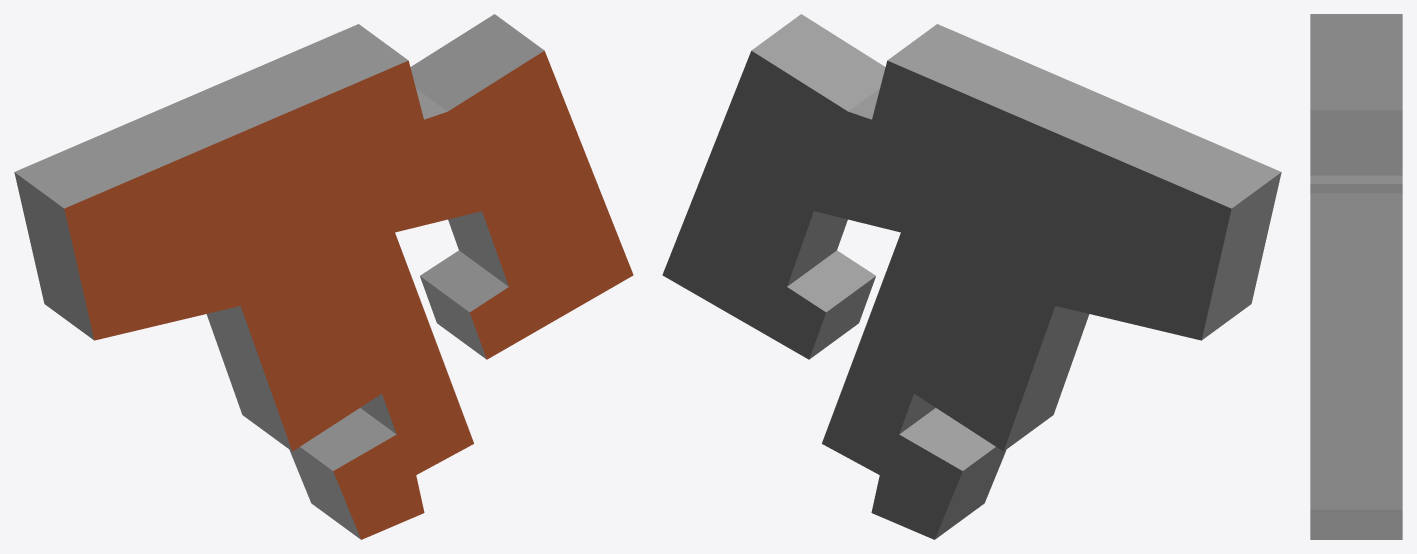
Rendered from construction_1230_assumed_A_Casa_h6m.obj.
3 views of the same model, side by side, from view 1: azimuth 30°, elevation 25°; view 2: azimuth 150°, elevation 25°; view 3: azimuth 270°, elevation 25° (orthographic). The views are drawn at different scales.
Parts seen in each view (by area): view 1: construction_1230_assumed_A_Casa; view 2: construction_1230_assumed_A_Casa; view 3: construction_1230_assumed_A_Casa.
Part boxes in pixels (x1,y1,x2,y2): construction_1230_assumed_A_Casa: (14, 14, 633, 539); construction_1230_assumed_A_Casa: (662, 14, 1281, 539); construction_1230_assumed_A_Casa: (1310, 14, 1402, 539).
Bounding box in the file's own units: 39.45 × 30.98 × 6.
